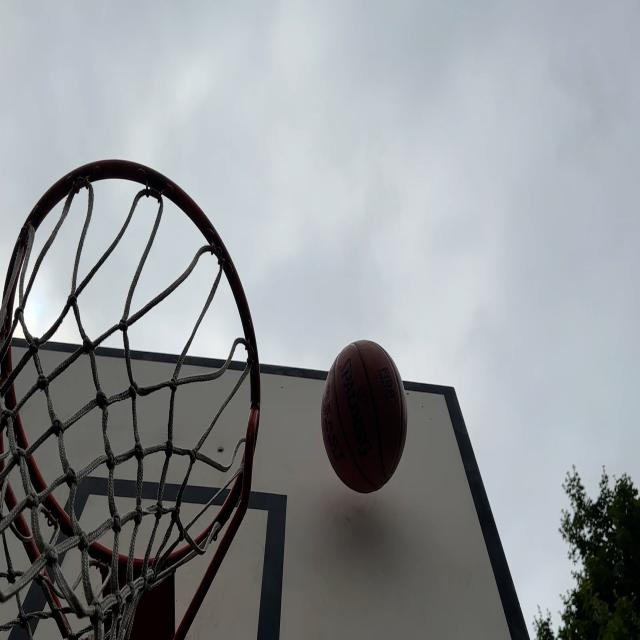Basketball: (323, 339, 409, 491)
